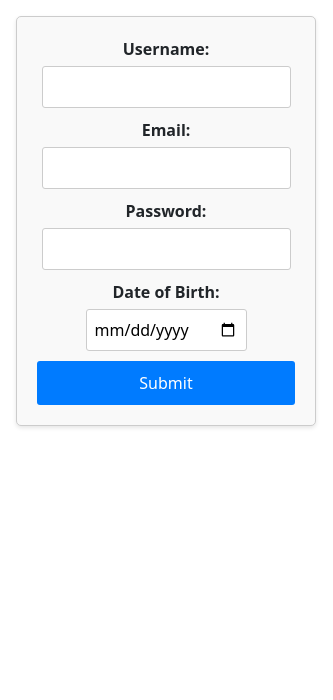
Test case: Registration form correct data functionality › User is able to fill registration form
The width and height of the screenshot is (333, 700).
Step 1. Type "jonasjonaitis" into the field named "username" below "Username:" → (167, 87), box [42,66,291,108]
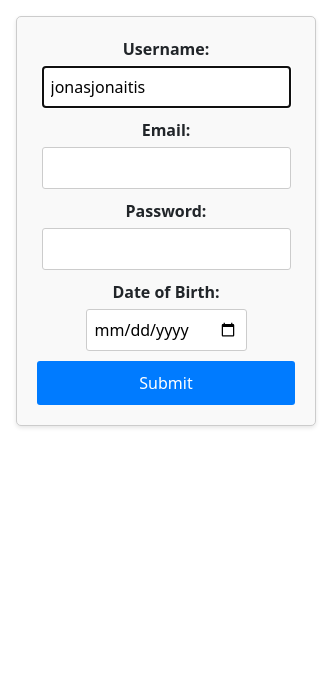
Step 2. Type "jonasjonaitis@gmail.com" into the field named "email" below "Email:" → (167, 168), box [42,147,291,189]
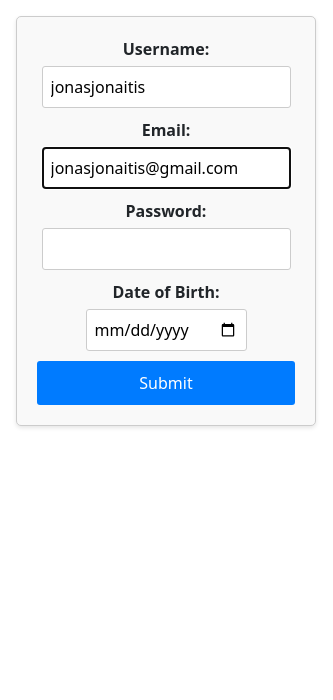
Step 3. Type "password123" into the password field named "password" → (167, 249), box [42,228,291,270]
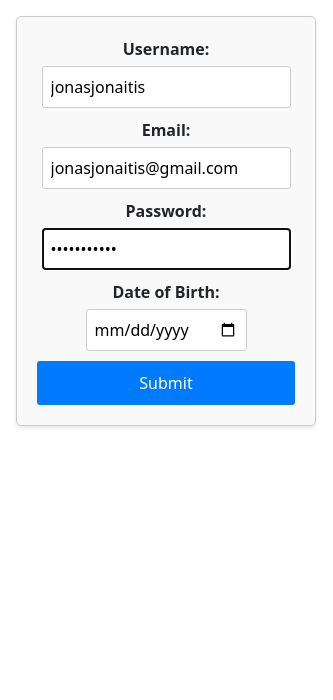
Step 4. Type "1990-01-01" into the date field named "dob" → (167, 330), box [86,309,247,351]
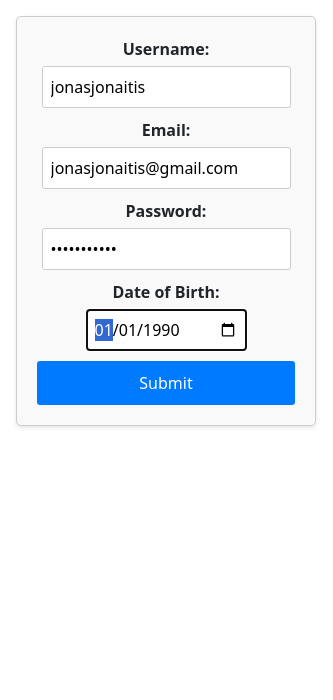
# Presses the button
Step 5. Click the button "Submit" → (166, 383), box [37,361,295,405]
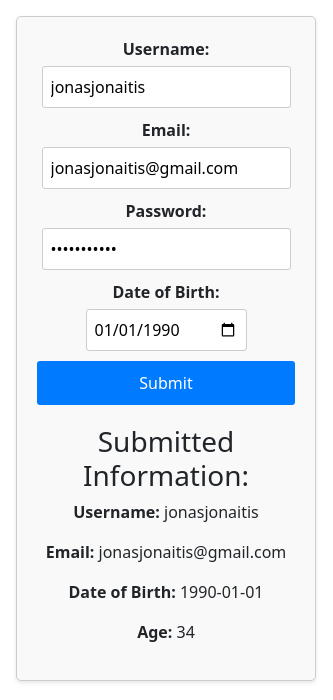
Now the element with class "submitted-info" is shown, box [37,425,295,644]
